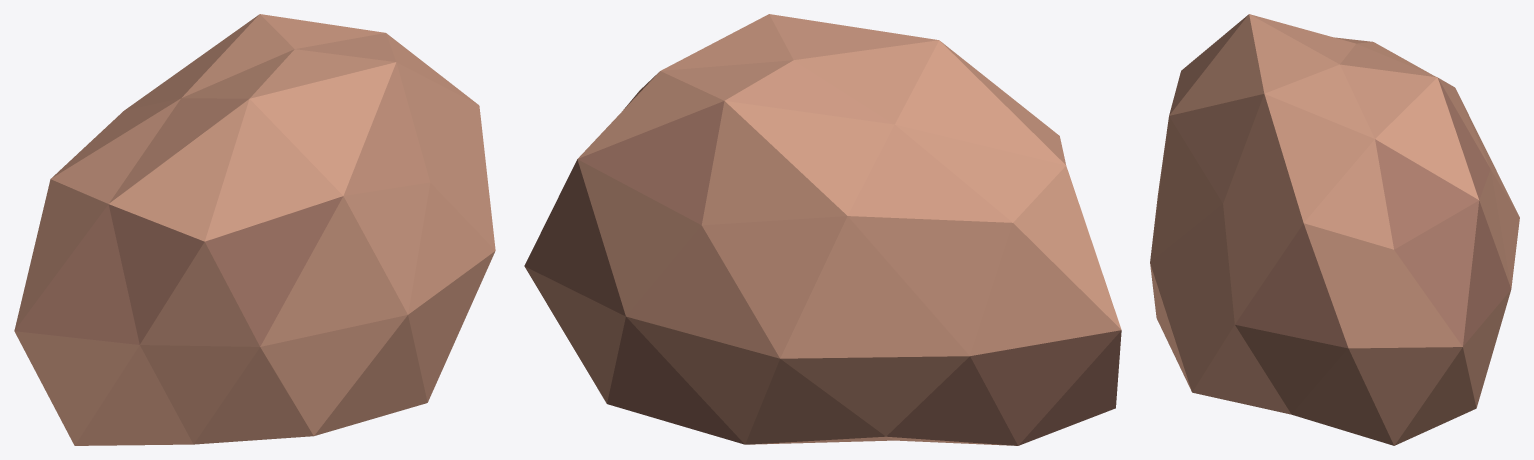
The model's file is Kit_Rock_2.fbx.
3 renders of one model, left to right at view 1: azimuth 30°, elevation 25°; view 2: azimuth 150°, elevation 25°; view 3: azimuth 270°, elevation 25°, orthographic. The views are drawn at different scales.
Parts seen in each view (by area): view 1: Kit_Rock_2; view 2: Kit_Rock_2; view 3: Kit_Rock_2.
Boxes of the visible parts, box(x1,y1,x2,y2) form: Kit_Rock_2: box(14, 14, 495, 445); Kit_Rock_2: box(524, 14, 1121, 445); Kit_Rock_2: box(1150, 14, 1519, 445).
Size of the model in its own units: 1.73 by 1.07 by 1.16.
